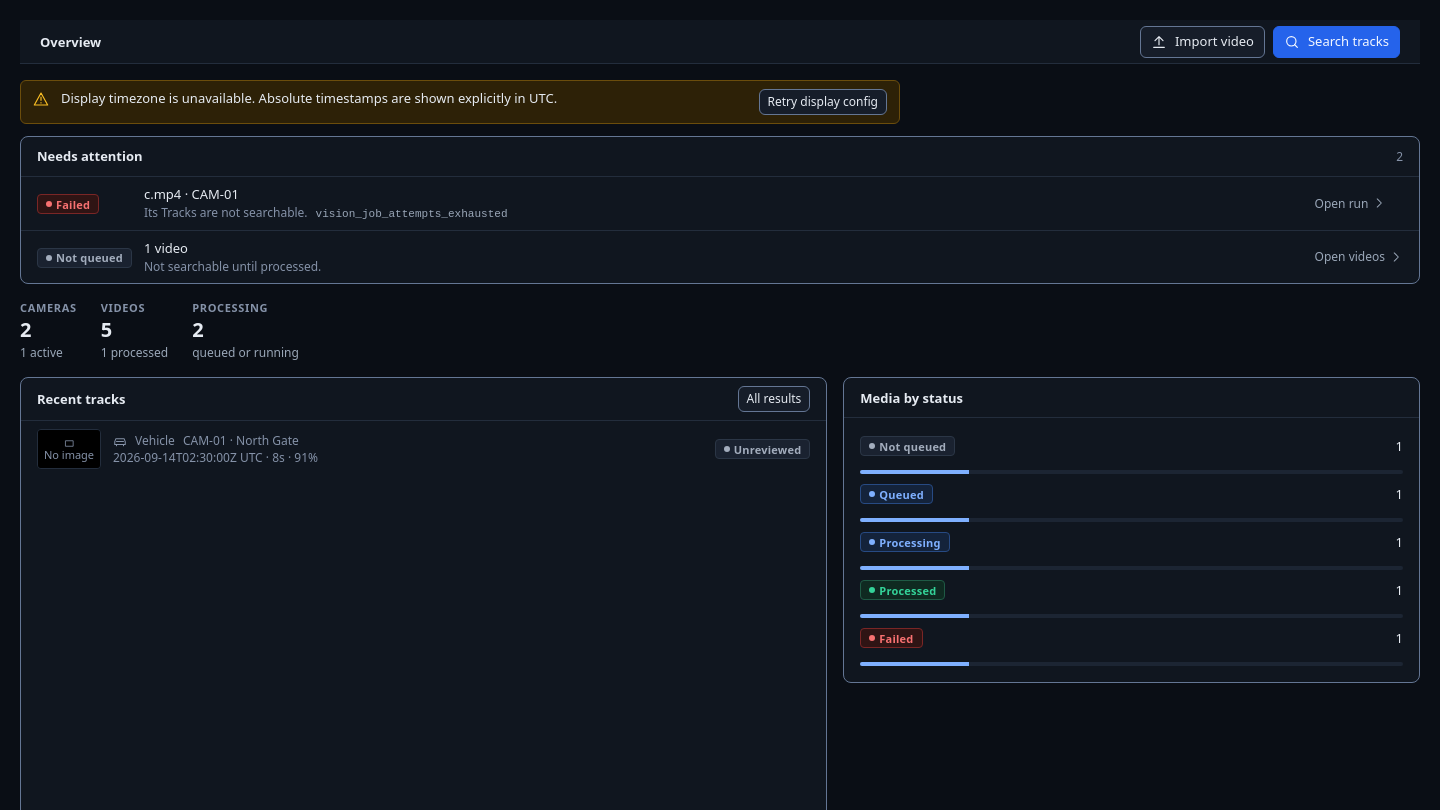
Test: OverviewPage › says once, with its own Retry, that the display timezone is unavailable (§37.1)
Expected: the text "Display timezone is unavailable" is shown once, [61,89,557,107]
Click the button "Retry display config" at (823, 102), box [758,89,887,115]
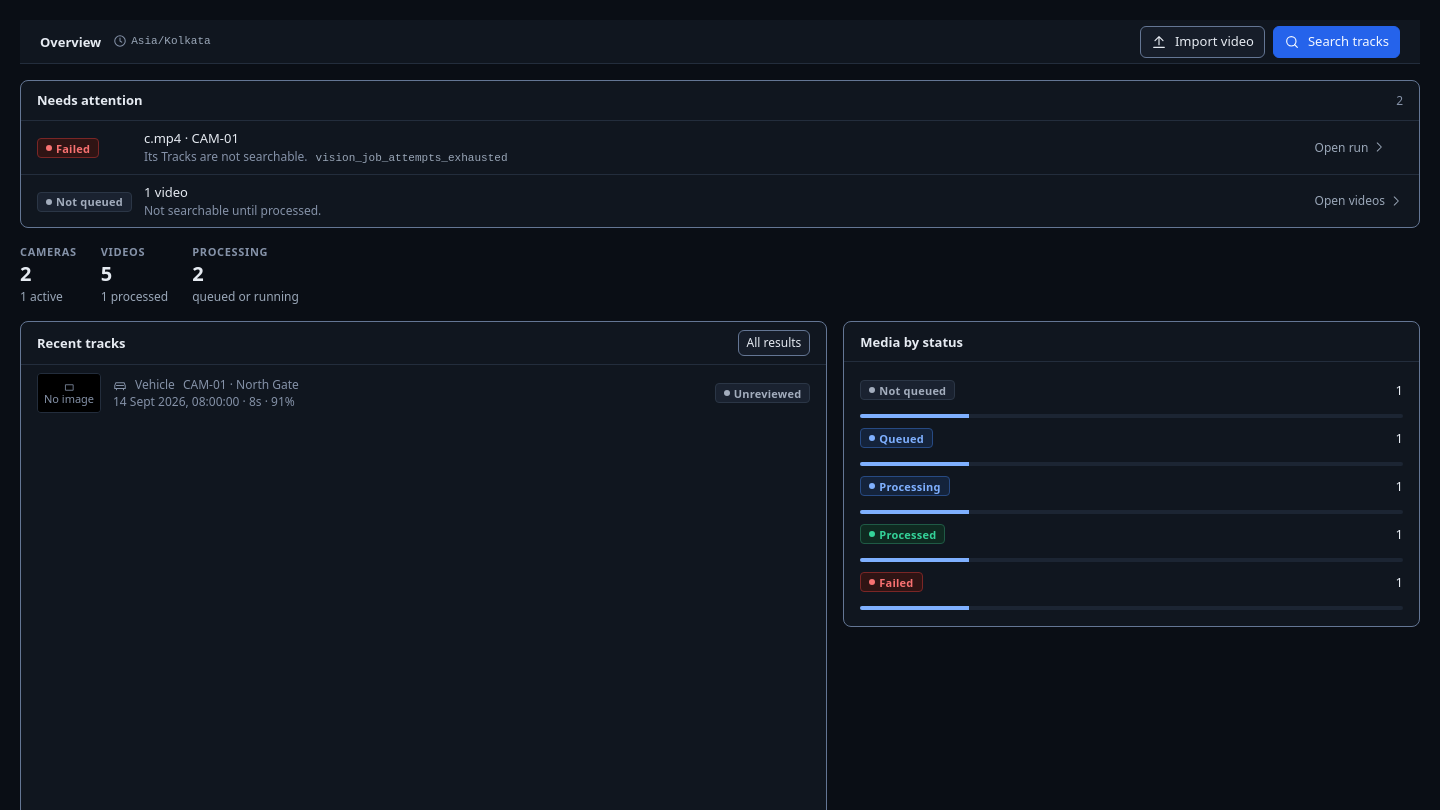
Expected: the text "Display timezone is unavailable" is gone
